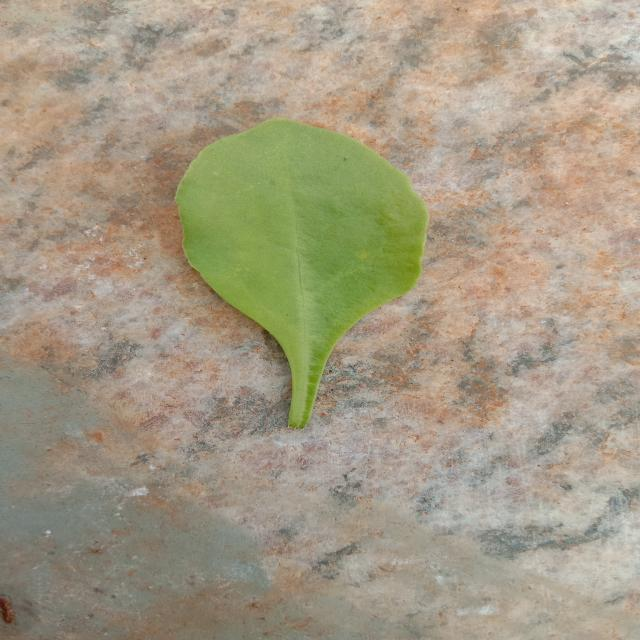leaf: (173, 115, 429, 429)
